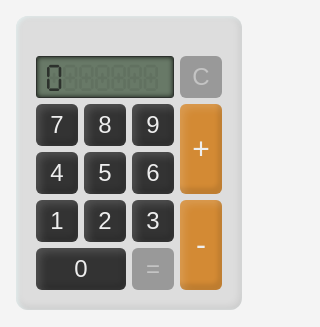
Test case: inputs work as expected › input multiple digits append'em to display
Click the button "2".
click(105, 221)  # box left=84, top=200, right=126, bottom=242
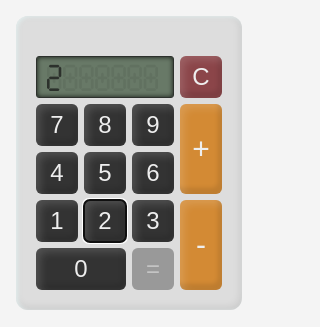
Click the button "6".
click(153, 173)  # box left=132, top=152, right=174, bottom=194
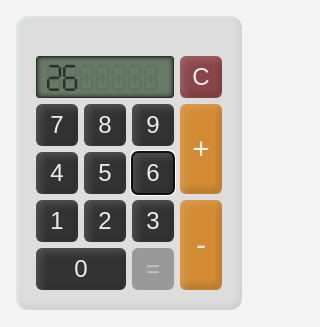
Click the button "2".
click(105, 221)  # box left=84, top=200, right=126, bottom=242
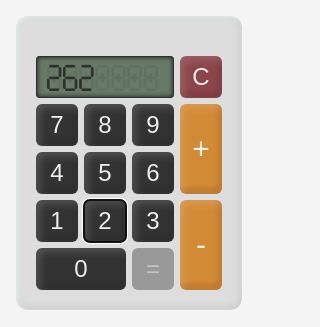
Expected: the field holds "262", left=47, top=56, right=163, bottom=98
